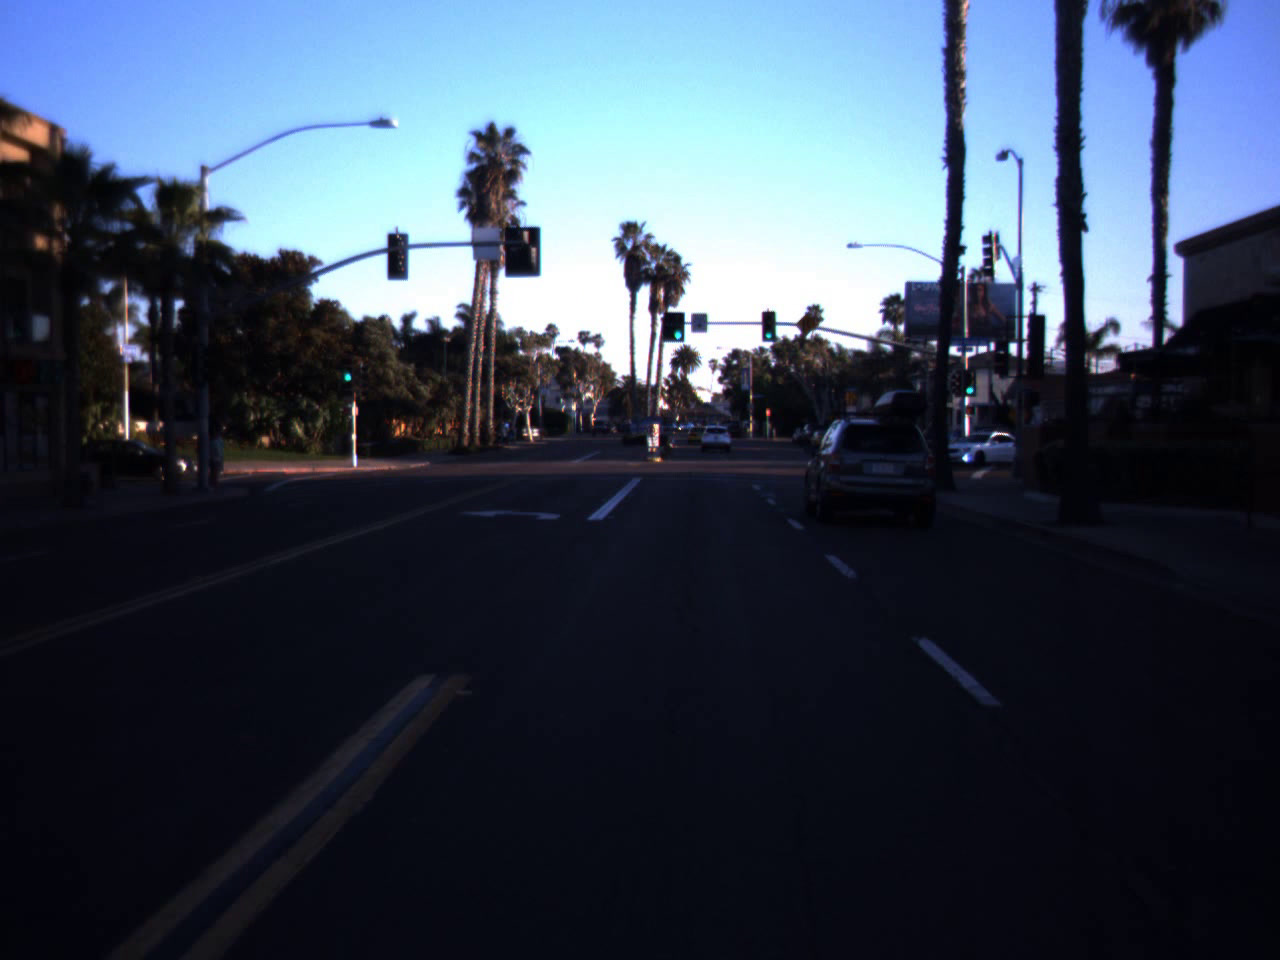go: (962, 370, 977, 395), (672, 311, 684, 341), (342, 357, 354, 382), (761, 320, 776, 340)
